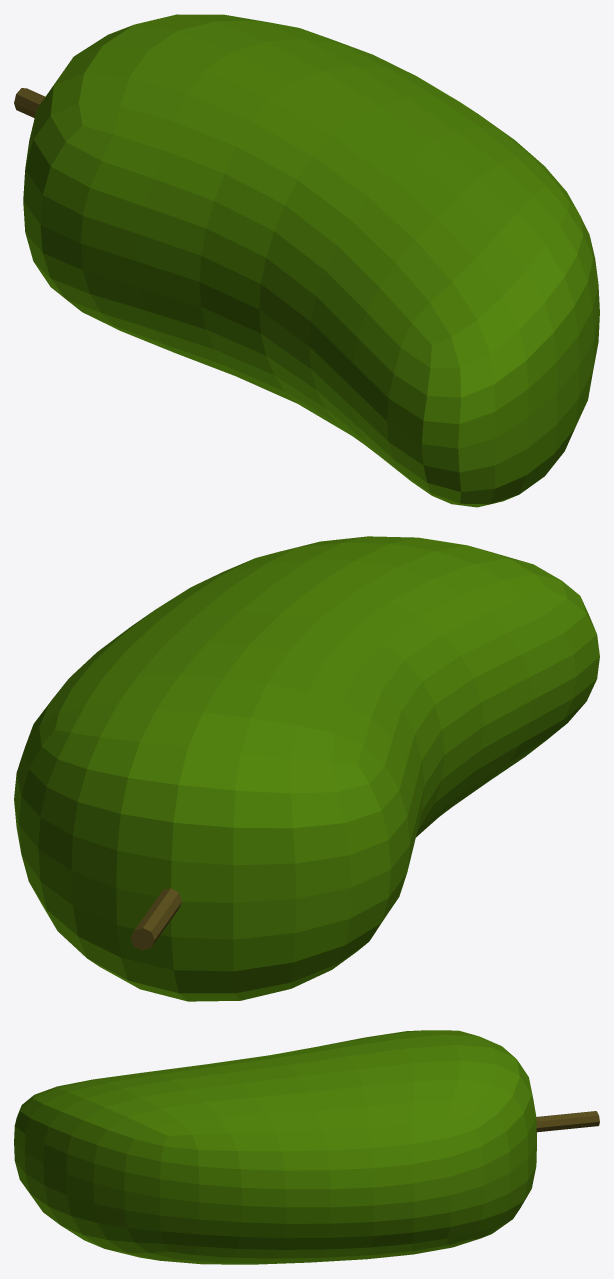
The model's file is Green Mango.fbx.
3 views of the same model, one above another, from view 1: azimuth 30°, elevation 25°; view 2: azimuth 150°, elevation 25°; view 3: azimuth 270°, elevation 25° (orthographic). The views are drawn at different scales.
Parts seen in each view (by area): view 1: Green Mango; view 2: Green Mango; view 3: Green Mango.
Boxes of the visible parts, x1=… form: Green Mango: x1=14, y1=14, x2=599, y2=507; Green Mango: x1=14, y1=536, x2=599, y2=1001; Green Mango: x1=14, y1=1030, x2=599, y2=1264.
Bounding box in the file's own units: 32.8 × 23.4 × 64.76.
